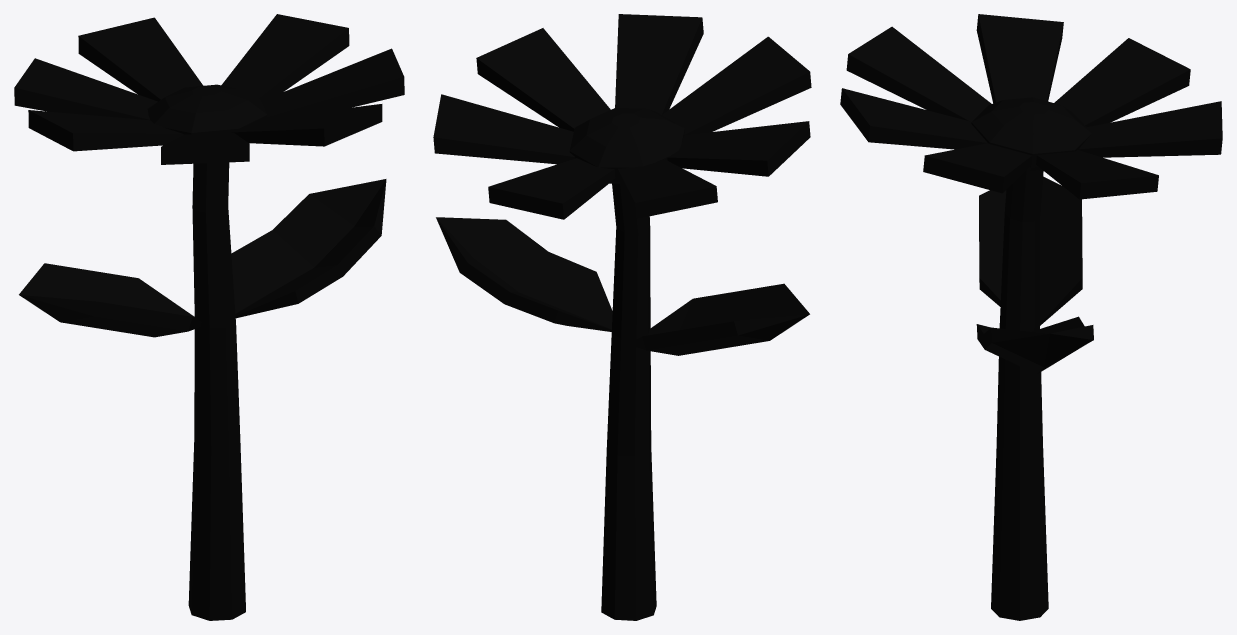
Rendered from Flower_2_Purple.fbx.
3 renders of one model, left to right at view 1: azimuth 30°, elevation 25°; view 2: azimuth 150°, elevation 25°; view 3: azimuth 270°, elevation 25°, orthographic. The views are drawn at different scales.
Parts seen in each view (by area): view 1: Flower_2_Purple; view 2: Flower_2_Purple; view 3: Flower_2_Purple.
Part boxes in pixels (bbox=[...]): Flower_2_Purple: bbox=[14, 14, 404, 620]; Flower_2_Purple: bbox=[433, 14, 811, 620]; Flower_2_Purple: bbox=[840, 14, 1222, 620].
Size of the model in its own units: 0.0963 by 0.1323 by 0.0868.
